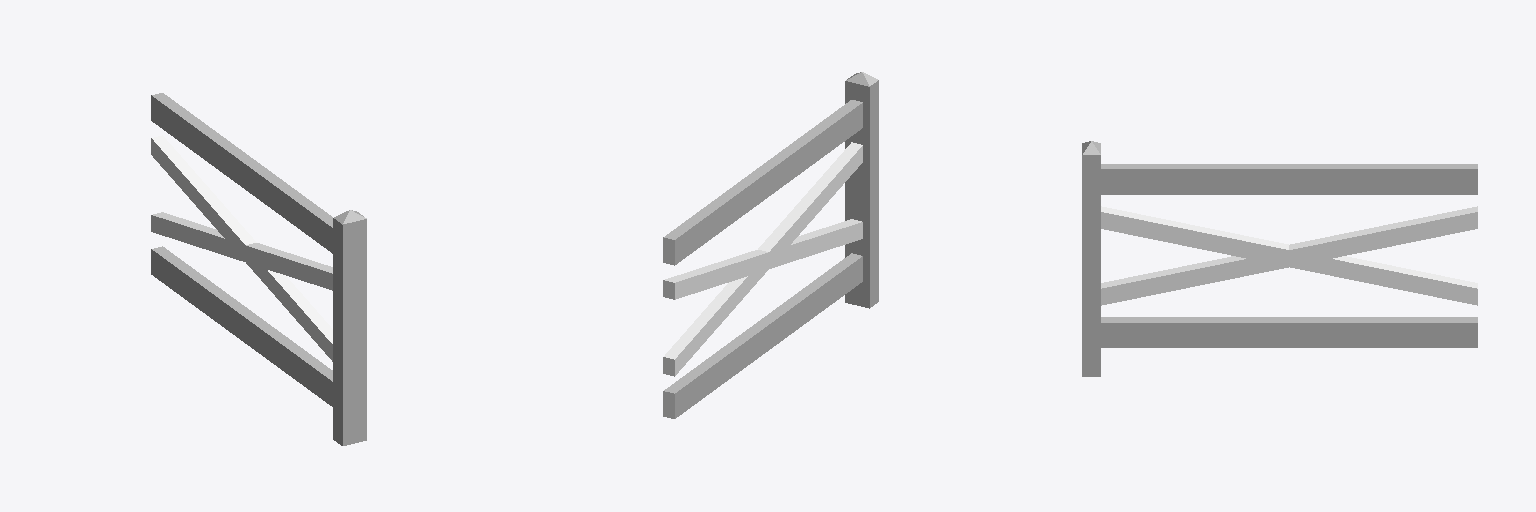
The model's file is wooddoor.obj.
The picture shows the model from 3 angles: view 1: azimuth 30°, elevation 25°; view 2: azimuth 150°, elevation 25°; view 3: azimuth 270°, elevation 25°; orthographic projection.
Parts seen in each view (by area): view 1: Mesh1 Fence_Wood__2_1 Model; view 2: Mesh1 Fence_Wood__2_1 Model; view 3: Mesh1 Fence_Wood__2_1 Model.
Part boxes in pixels (x1,y1,x2,y2): Mesh1 Fence_Wood__2_1 Model: (151, 93, 366, 445); Mesh1 Fence_Wood__2_1 Model: (663, 72, 878, 418); Mesh1 Fence_Wood__2_1 Model: (1082, 141, 1477, 376).
Bounding box in the file's own units: 7.21 × 64.88 × 101.